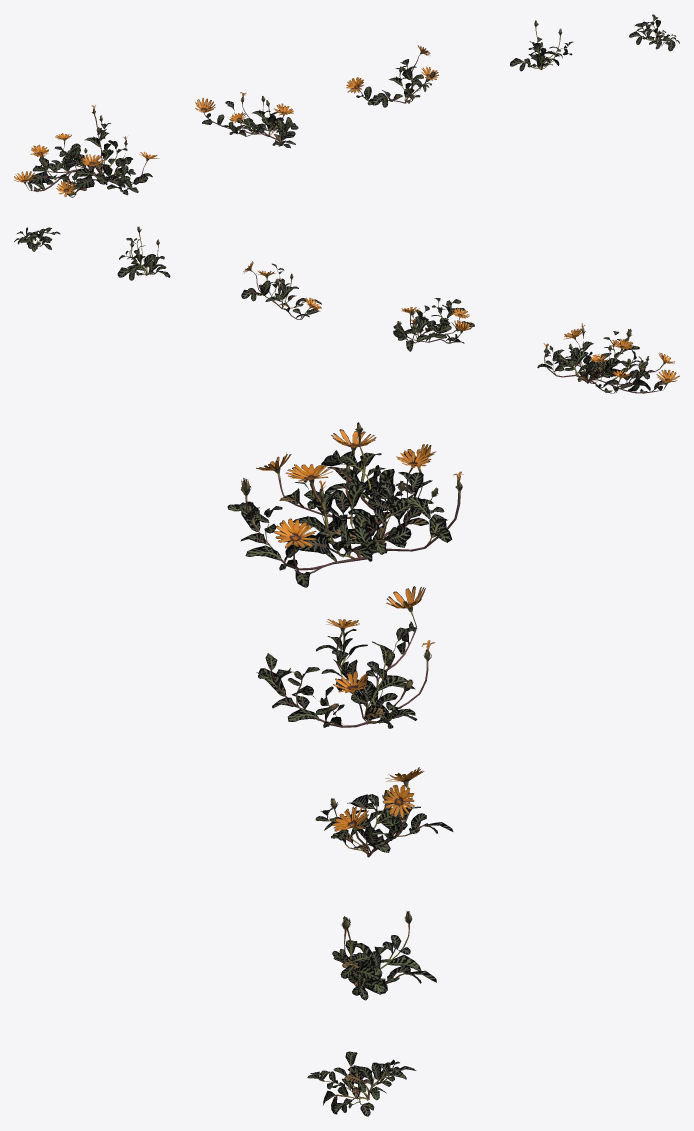
The model's file is flower_ursinia.glb.
3 renders of one model, top to bottom at view 1: azimuth 30°, elevation 25°; view 2: azimuth 150°, elevation 25°; view 3: azimuth 270°, elevation 25°, orthographic. The views are drawn at different scales.
Visible parts, largest first — view 1: flower_ursinia_a_LOD0, flower_ursinia_b_LOD0, flower_ursinia_c_LOD0, flower_ursinia_d_LOD0, flower_ursinia_e_LOD0; view 2: flower_ursinia_a_LOD0, flower_ursinia_b_LOD0, flower_ursinia_c_LOD0, flower_ursinia_d_LOD0, flower_ursinia_e_LOD0; view 3: flower_ursinia_a_LOD0, flower_ursinia_b_LOD0, flower_ursinia_c_LOD0, flower_ursinia_d_LOD0, flower_ursinia_e_LOD0.
Part boxes in pixels (bbox=[...]): flower_ursinia_a_LOD0: bbox=[14, 105, 159, 197]; flower_ursinia_b_LOD0: bbox=[195, 92, 298, 148]; flower_ursinia_c_LOD0: bbox=[346, 45, 438, 107]; flower_ursinia_d_LOD0: bbox=[510, 20, 573, 71]; flower_ursinia_e_LOD0: bbox=[629, 14, 679, 51]; flower_ursinia_a_LOD0: bbox=[537, 323, 679, 393]; flower_ursinia_b_LOD0: bbox=[393, 298, 474, 351]; flower_ursinia_c_LOD0: bbox=[241, 261, 321, 319]; flower_ursinia_d_LOD0: bbox=[117, 226, 170, 280]; flower_ursinia_e_LOD0: bbox=[14, 227, 60, 251]; flower_ursinia_a_LOD0: bbox=[227, 422, 463, 587]; flower_ursinia_b_LOD0: bbox=[256, 586, 435, 728]; flower_ursinia_c_LOD0: bbox=[315, 767, 453, 857]; flower_ursinia_d_LOD0: bbox=[332, 911, 436, 1000]; flower_ursinia_e_LOD0: bbox=[307, 1051, 416, 1116].
Bounding box in the file's own units: 2.19 × 0.1717 × 0.3433.
1 material, 1 textured.
